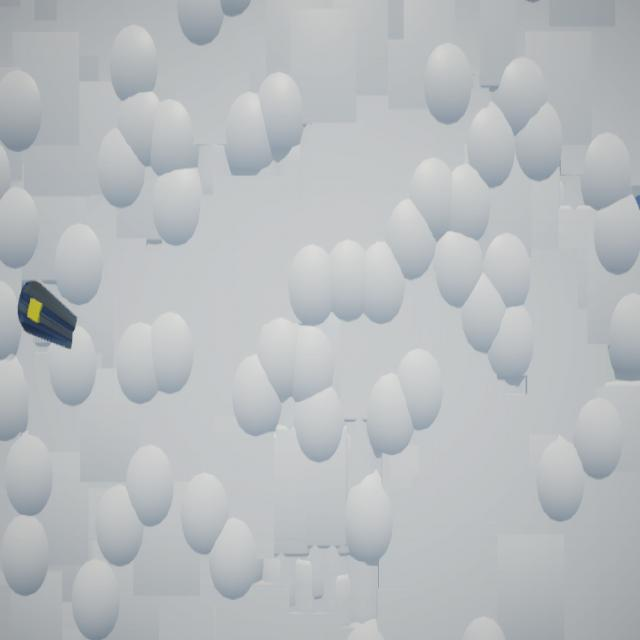handle_folk: (19, 282, 79, 351)
